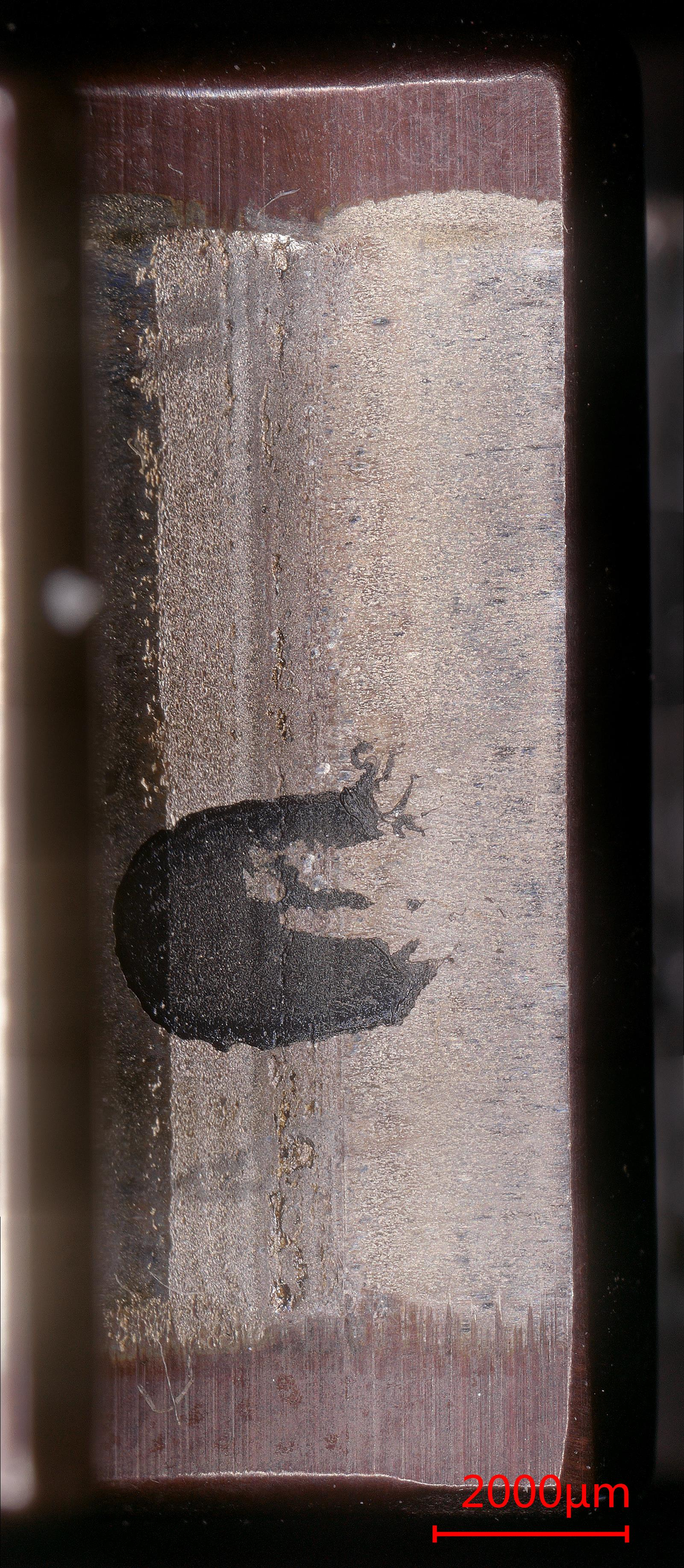Abrasion: (101, 74, 555, 1479)
